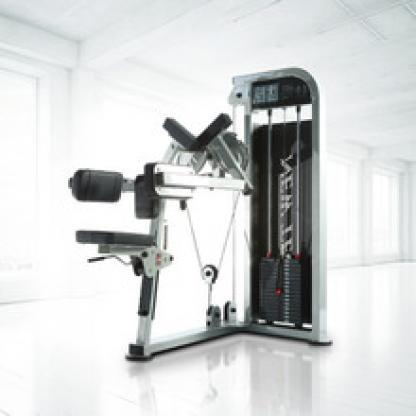lateral raises machine: (155, 69, 334, 350)
